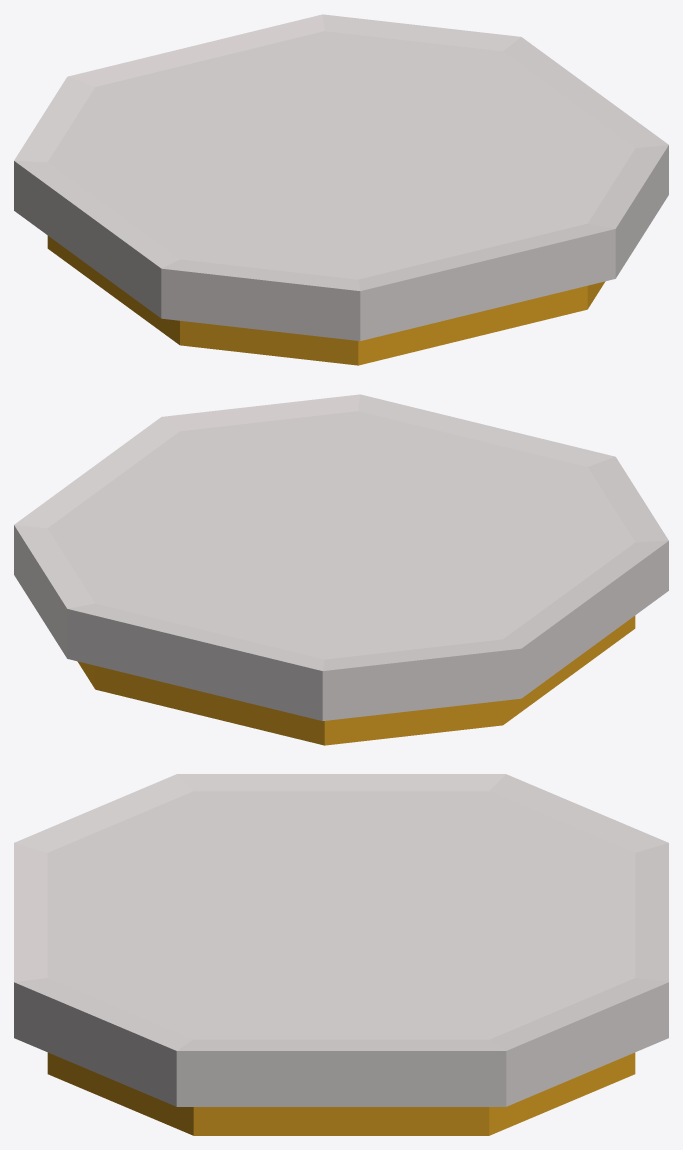
The model's file is light_ceiling2.fbx.
3 views of the same model, one above another, from view 1: azimuth 30°, elevation 25°; view 2: azimuth 150°, elevation 25°; view 3: azimuth 270°, elevation 25° (orthographic). The views are drawn at different scales.
Visible parts, largest first — view 1: Cube.001; view 2: Cube.001; view 3: Cube.001.
Part boxes in pixels (x1=…): Cube.001: x1=14, y1=14, x2=668, y2=365; Cube.001: x1=14, y1=394, x2=668, y2=745; Cube.001: x1=14, y1=774, x2=668, y2=1135.
Size of the model in its own units: 111 by 18.48 by 111.
